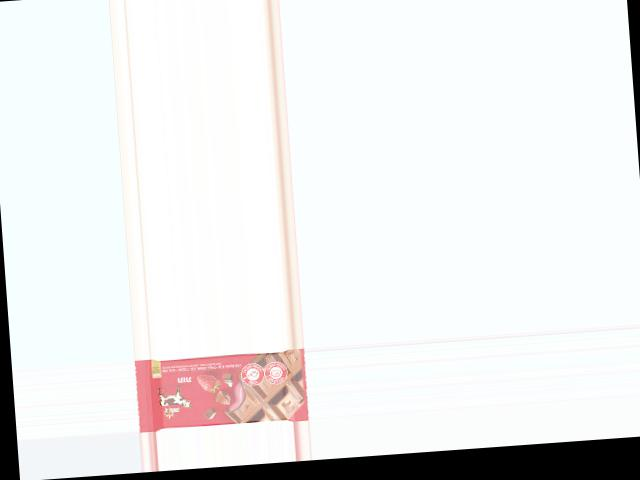chocolate: (133, 348, 309, 432)
